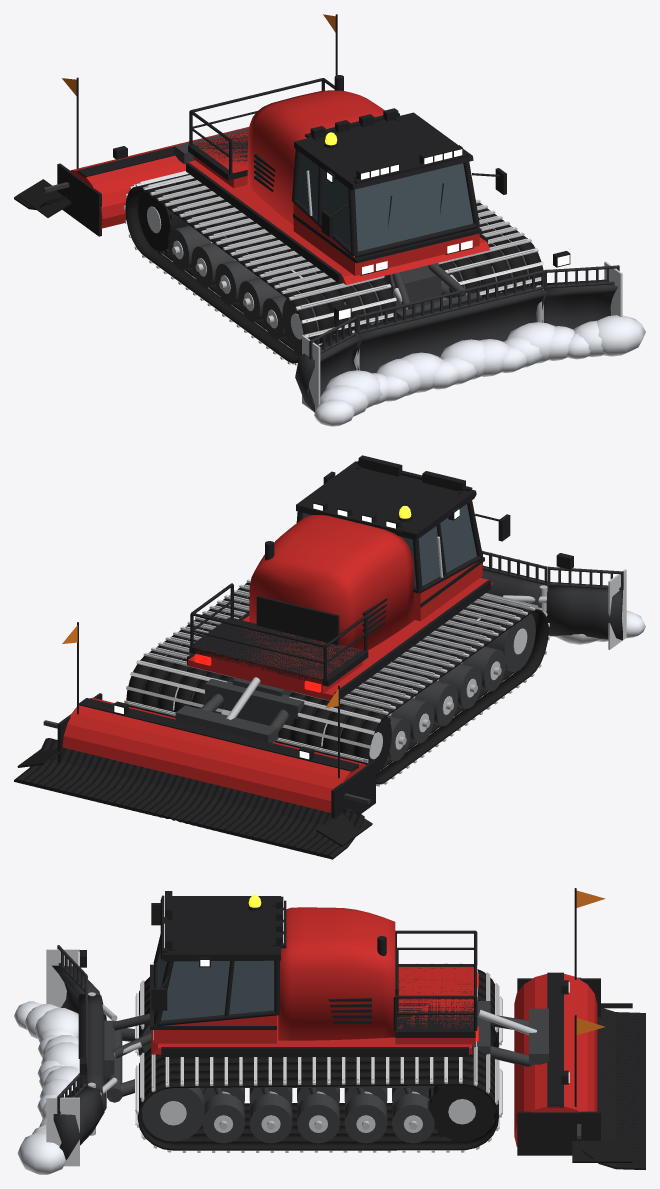
Rendered from groomer.glb.
The picture shows the model from 3 angles, top to bottom: view 1: azimuth 30°, elevation 25°; view 2: azimuth 150°, elevation 25°; view 3: azimuth 270°, elevation 25°; orthographic projection.
Parts seen in each view (by area): view 1: groomer_body, groomer_blade, groomer_heap, groomer_cleats, groomer_tiller; view 2: groomer_body, groomer_tiller, groomer_cleats, groomer_blade, groomer_heap; view 3: groomer_body, groomer_tiller, groomer_blade, groomer_heap, groomer_cleats.
Part boxes in pixels (left/top/right/bottom): groomer_body: left=125, top=75, right=543, bottom=363; groomer_blade: left=295, top=251, right=622, bottom=412; groomer_heap: left=314, top=315, right=645, bottom=426; groomer_cleats: left=123, top=171, right=543, bottom=365; groomer_tiller: left=14, top=14, right=337, bottom=236; groomer_body: left=126, top=455, right=548, bottom=784; groomer_tiller: left=14, top=622, right=375, bottom=859; groomer_cleats: left=124, top=579, right=549, bottom=786; groomer_blade: left=480, top=550, right=626, bottom=649; groomer_heap: left=555, top=610, right=645, bottom=644; groomer_body: left=137, top=891, right=499, bottom=1150; groomer_tiller: left=477, top=888, right=645, bottom=1169; groomer_blade: left=46, top=945, right=151, bottom=1166; groomer_heap: left=14, top=1001, right=78, bottom=1174; groomer_cleats: left=135, top=963, right=502, bottom=1152.
Size of the model in its own units: 5.76 by 3.1 by 9.46.
